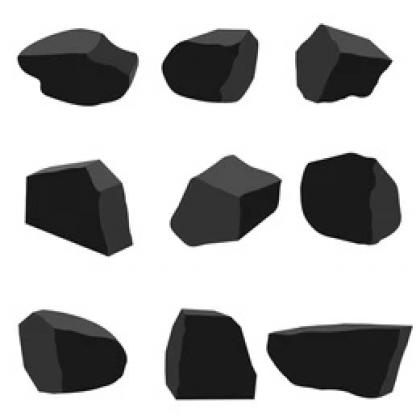Sedimentary_coal: (257, 303, 412, 399), (158, 140, 285, 254), (14, 145, 136, 261), (292, 145, 411, 246), (145, 303, 260, 406), (8, 308, 131, 398), (5, 25, 139, 106), (281, 15, 396, 101), (158, 26, 261, 104)
